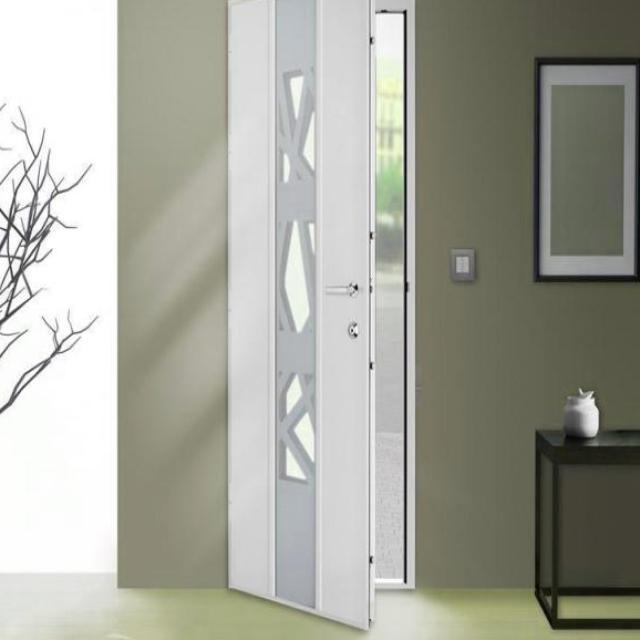door: (226, 0, 375, 630)
